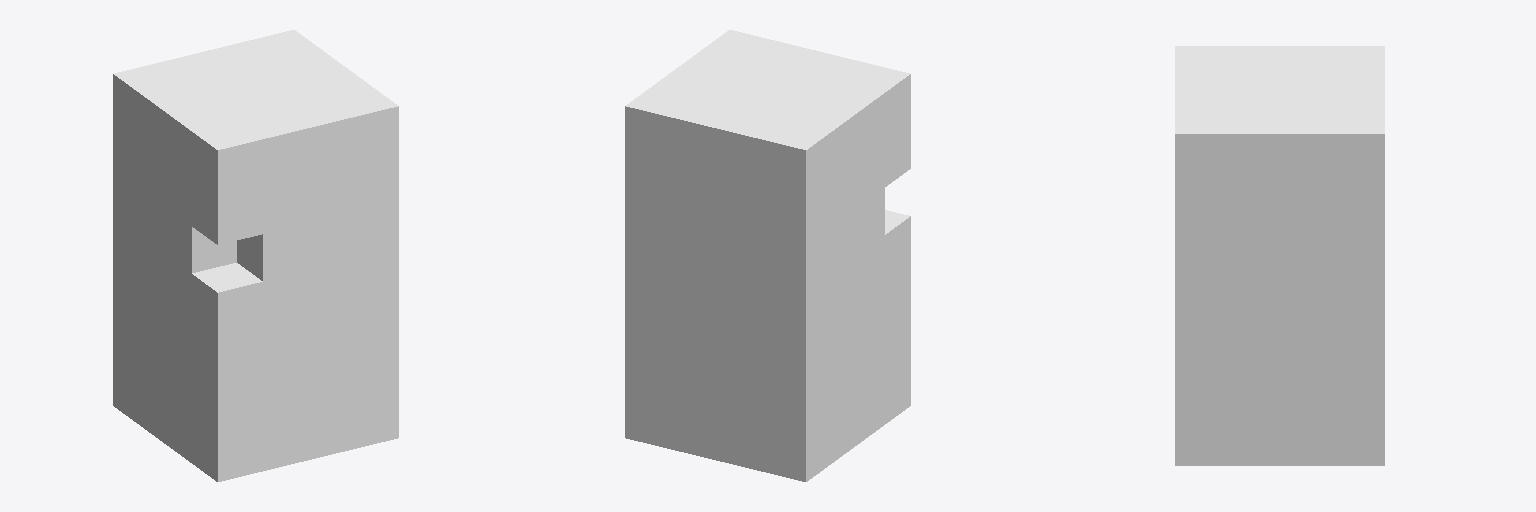
The model's file is skyscraper_offset.obj.
The picture shows the model from 3 angles: view 1: azimuth 30°, elevation 25°; view 2: azimuth 150°, elevation 25°; view 3: azimuth 270°, elevation 25°; orthographic projection.
Visible parts, largest first — view 1: object 1; view 2: object 1; view 3: object 1.
Part boxes in pixels (x1,y1,x2,y2): object 1: (113,30,398,481); object 1: (625,30,910,481); object 1: (1175,46,1384,465).
Bounding box in the file's own units: 0.4 × 0.7 × 0.4.